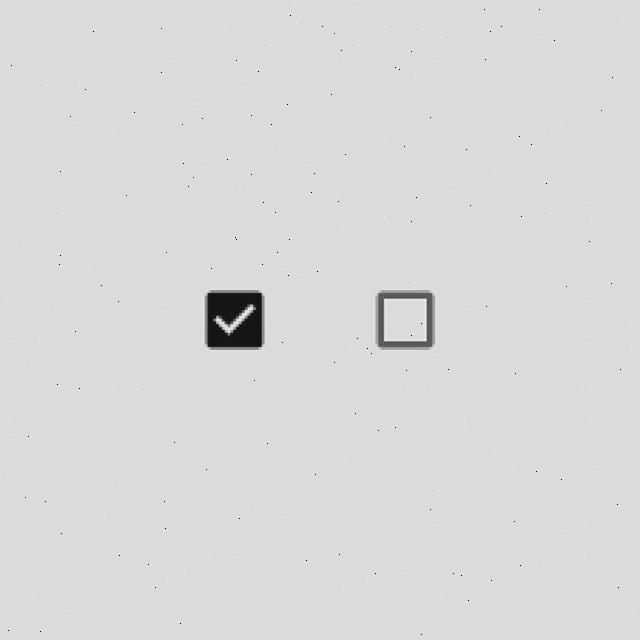checkbox: (375, 289, 436, 352), (205, 290, 264, 350)
